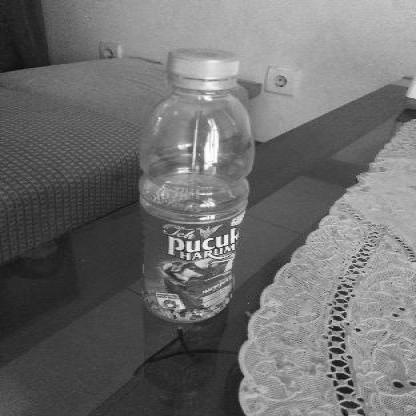plastic_bottles: (135, 47, 260, 330)
